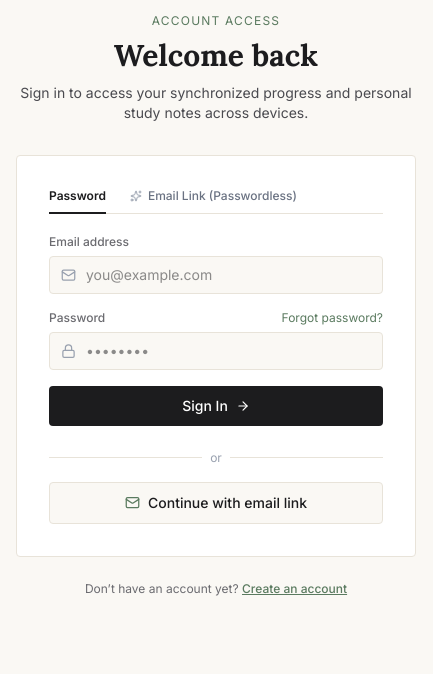
Test: Authentication Pages & Flows › SignInPage › displays error message when signIn fails
Step 1. Type "user@example.com" into the field with placeholder "you@example.com" → [216, 274], box [49,256,383,294]
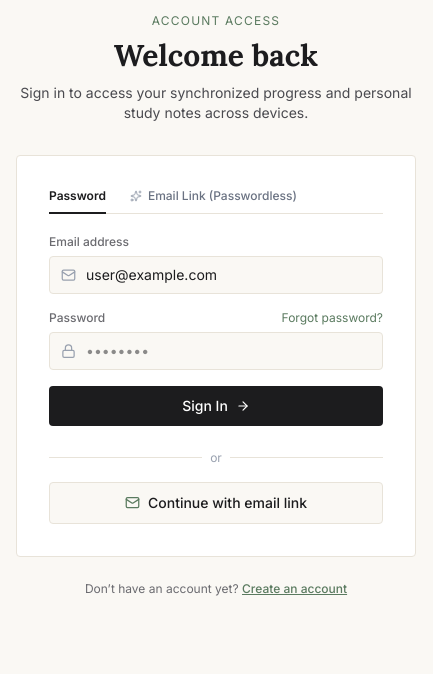
Step 2. Type "wrong-password" into the password field with placeholder "••••••••" → [216, 350], box [49,332,383,370]
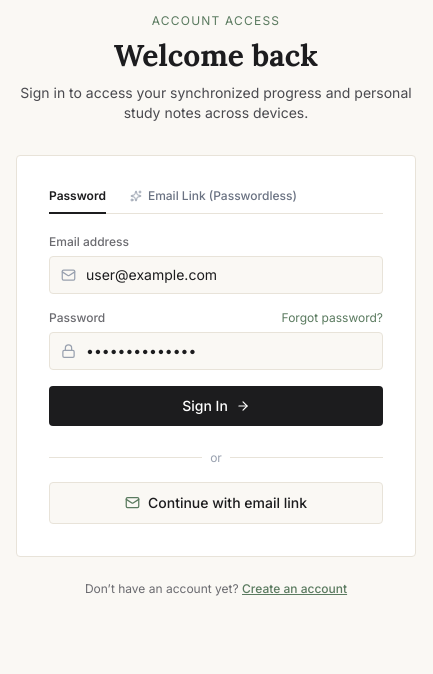
Step 3. Click the button "Sign In" → [216, 406], box [49,386,383,426]
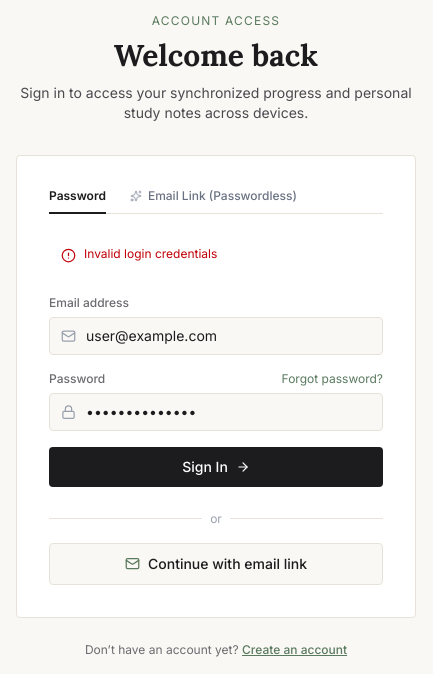
expect the text "Invalid login credentials" is shown: met, box [84,246,217,262]
